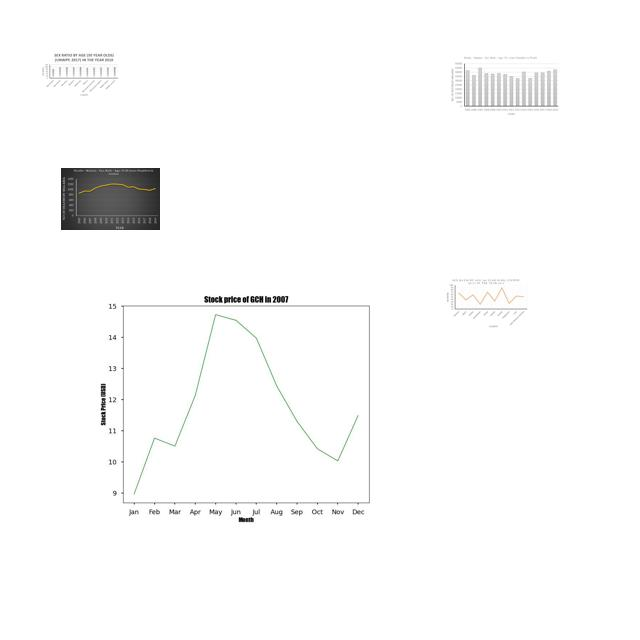Graph: (55, 275, 428, 531), (449, 54, 560, 118), (61, 168, 160, 230), (445, 278, 528, 328), (40, 52, 119, 97)
